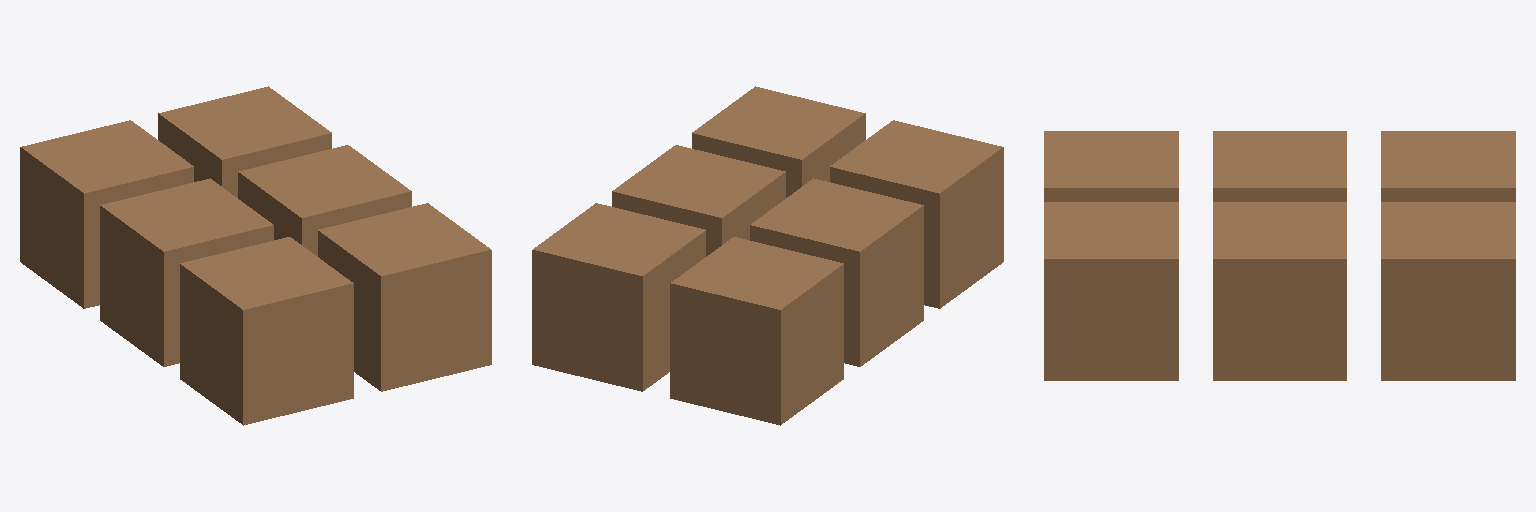
robot.urdf — multi_static_boxes:
<?xml version="1.0"?>
<robot name="multi_static_boxes">

  <material name="Black">
    <color rgba="0.0 0.0 0.0 1.0"/>
  </material>
  <material name="Blue">
    <color rgba="0.0 0.0 0.8 1.0"/>
  </material>
  <material name="Green">
    <color rgba="0.0 0.9 0.0 1.0"/>
  </material>
  <material name="Grey">
    <color rgba="0.4 0.4 0.4 1.0"/>
  </material>
  <material name="Glas">
    <color rgba="0.4 0.4 0.4 0.1"/>
  </material>
  <material name="Orange">
    <color rgba="1.0 0.423529411765 0.0392156862745 1.0"/>
  </material>
  <material name="Brown">
    <color rgba="0.870588235294 0.811764705882 0.764705882353 1.0"/>
  </material>
  <material name="Red">
    <color rgba="0.8 0.0 0.0 1.0"/>
  </material>
  <material name="White">
    <color rgba="1.0 1.0 1.0 1.0"/>
  </material>
  <material name="Silver">
    <color rgba="0.82 0.82 0.82 1.0"/>
  </material>
  <material name="Box_color">
    <color rgba="0.678 0.529 0.384 1.0"/>
  </material>



  <link name="base"/>

  <joint name="base_to_box_0" type="fixed">
    <parent link="base"/>
    <child link="box_0"/>
    <origin rpy="0 0 0" xyz="-3 3 0.25"/>
  </joint>

  <link name="box_0">
    <visual>
      <origin xyz="0 0 0" rpy="0 0 0" />
      <geometry>
        <box size="0.4 0.4 0.4" />
      </geometry>
      <material name="Box_color"/>
    </visual>
  </link>

  <joint name="base_to_box_1" type="fixed">
    <parent link="base"/>
    <child link="box_1"/>
    <origin rpy="0 0 0" xyz="-3 2.5 0.25"/>
  </joint>

  <link name="box_1">
    <visual>
      <origin xyz="0 0 0" rpy="0 0 0" />
      <geometry>
        <box size="0.4 0.4 0.4" />
      </geometry>
      <material name="Box_color"/>
    </visual>
  </link>

  <joint name="base_to_box_2" type="fixed">
    <parent link="base"/>
    <child link="box_2"/>
    <origin rpy="0 0 0" xyz="-2.5 2.5 0.25"/>
  </joint>

  <link name="box_2">
    <visual>
      <origin xyz="0 0 0" rpy="0 0 0" />
      <geometry>
        <box size="0.4 0.4 0.4" />
      </geometry>
      <material name="Box_color"/>
    </visual>
  </link>

  <joint name="base_to_box_3" type="fixed">
    <parent link="base"/>
    <child link="box_3"/>
    <origin rpy="0 0 0" xyz="-2.5 3.0 0.25"/>
  </joint>

  <link name="box_3">
    <visual>
      <origin xyz="0 0 0" rpy="0 0 0" />
      <geometry>
        <box size="0.4 0.4 0.4" />
      </geometry>
      <material name="Box_color"/>
    </visual>
  </link>



  <joint name="base_to_box_4" type="fixed">
    <parent link="base"/>
    <child link="box_4"/>
    <origin rpy="0 0 0" xyz="-2.5 2.0 0.25"/>
  </joint>

  <link name="box_4">
    <visual>
      <origin xyz="0 0 0" rpy="0 0 0" />
      <geometry>
        <box size="0.4 0.4 0.4" />
      </geometry>
      <material name="Box_color"/>
    </visual>
  </link>

  <joint name="base_to_box_5" type="fixed">
    <parent link="base"/>
    <child link="box_5"/>
    <origin rpy="0 0 0" xyz="-3.0 2.0 0.25"/>
  </joint>

  <link name="box_5">
    <visual>
      <origin xyz="0 0 0" rpy="0 0 0" />
      <geometry>
        <box size="0.4 0.4 0.4" />
      </geometry>
      <material name="Box_color"/>
    </visual>
  </link>
<!--
  <joint name="base_to_box_6" type="fixed">
    <parent link="base"/>
    <child link="box_6"/>
    <origin rpy="0 0 0" xyz="-6 -3.1 1.5"/>
  </joint>

  <link name="box_6">
    <visual>
      <origin xyz="0 0 0" rpy="0 0 0" />
      <geometry>
        <box size="0.4 0.4 0.4" />
      </geometry>
      <material name="Box_color"/>
    </visual>
  </link>
-->
<!--
  <joint name="base_to_box_7" type="fixed">
    <parent link="base"/>
    <child link="box_7"/>
    <origin rpy="0 0 1.2" xyz="-6.1 -2.6 1.5"/>
  </joint>

  <link name="box_7">
    <visual>
      <origin xyz="0 0 0" rpy="0 0 0" />
      <geometry>
        <box size="0.4 0.4 0.4" />
      </geometry>
      <material name="Box_color"/>
    </visual>
  </link>
-->
<!--
  <joint name="base_to_box_8" type="fixed">
    <parent link="base"/>
    <child link="box_8"/>
    <origin rpy="0 0 0.9" xyz="-5.5 -2.8 1.5"/>
  </joint>

  <link name="box_8">
    <visual>
      <origin xyz="0 0 0" rpy="0 0 0" />
      <geometry>
        <box size="0.4 0.4 0.4" />
      </geometry>
      <material name="Box_color"/>
    </visual>
  </link>
-->
<!--
  <joint name="base_to_box_9" type="fixed">
    <parent link="base"/>
    <child link="box_9"/>
    <origin rpy="0 0 0.7" xyz="-5.9 -2.9 1.9"/>
  </joint>

  <link name="box_9">
    <visual>
      <origin xyz="0 0 0" rpy="0 0 0" />
      <geometry>
        <box size="0.4 0.4 0.4" />
      </geometry>
      <material name="Box_color"/>
    </visual>
  </link> -->
</robot>

--- Render facts (derived) ---
3 views of the same robot in one strip: view 1: azimuth 30°, elevation 25°; view 2: azimuth 150°, elevation 25°; view 3: azimuth 270°, elevation 25° (orthographic).
Robot: multi_static_boxes — 7 links, 6 joints (6 fixed); root link base; default pose: every joint at zero.
Links seen in each view (by area): view 1: box_5, box_4, box_1, box_0, box_2, box_3; view 2: box_0, box_3, box_1, box_5, box_2, box_4; view 3: box_3, box_4, box_2, box_0, box_5, box_1.
Link boxes in pixels (bbox=[...]): box_5: bbox=[180, 237, 353, 425]; box_4: bbox=[318, 203, 491, 391]; box_1: bbox=[100, 178, 273, 366]; box_0: bbox=[20, 120, 193, 308]; box_2: bbox=[238, 145, 411, 256]; box_3: bbox=[158, 86, 331, 197]; box_0: bbox=[670, 237, 843, 425]; box_3: bbox=[532, 203, 705, 391]; box_1: bbox=[750, 178, 923, 366]; box_5: bbox=[830, 120, 1003, 308]; box_2: bbox=[612, 145, 785, 256]; box_4: bbox=[692, 86, 865, 197]; box_3: bbox=[1381, 202, 1515, 380]; box_4: bbox=[1044, 202, 1178, 380]; box_2: bbox=[1213, 202, 1346, 380]; box_0: bbox=[1381, 131, 1515, 201]; box_5: bbox=[1044, 131, 1178, 201]; box_1: bbox=[1213, 131, 1346, 201].
Bounding box of the posed robot: 0.9 × 1.4 × 0.4 m (x, y, z).
Geometry: primitives only (box / cylinder / sphere), no mesh files.